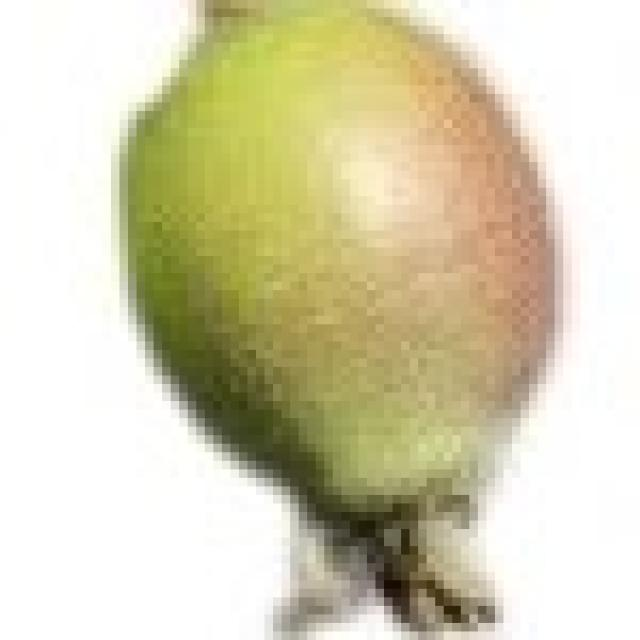20-_ripeness: (122, 0, 563, 640)
